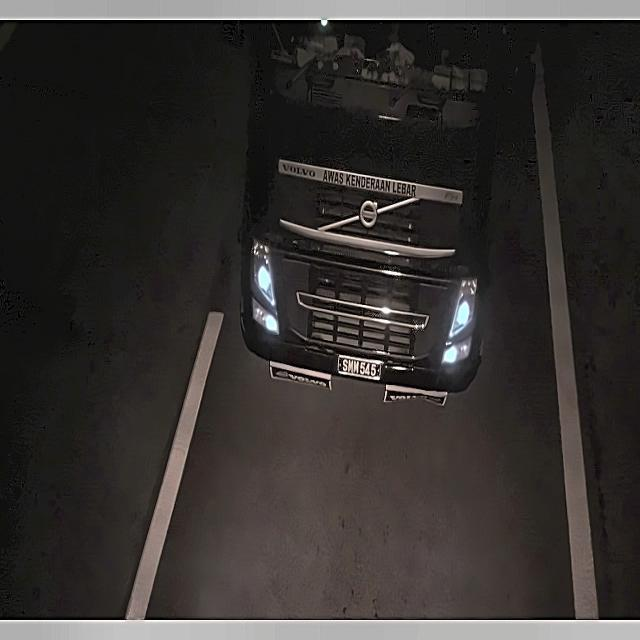car: (332, 352, 386, 384)
